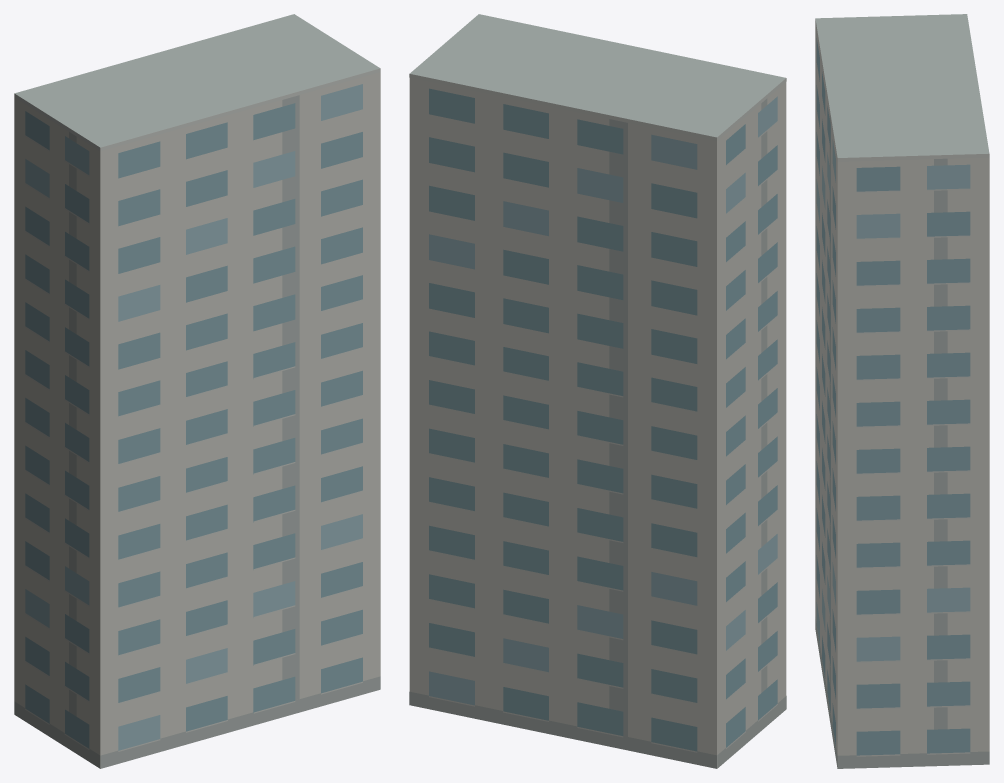
Rendered from residential-a8a6ac47-7f25-4c6a-9a80-2eb6d93ecd87.glb.
The picture shows the model from 3 angles, left to right: view 1: azimuth 30°, elevation 25°; view 2: azimuth 150°, elevation 25°; view 3: azimuth 270°, elevation 25°; orthographic projection. The views are drawn at different scales.
Parts seen in each view (by area): view 1: residential-a8a6ac47-7f25-4c6a-9a80-2eb6d93ecd87.tmp; view 2: residential-a8a6ac47-7f25-4c6a-9a80-2eb6d93ecd87.tmp; view 3: residential-a8a6ac47-7f25-4c6a-9a80-2eb6d93ecd87.tmp.
Boxes of the visible parts, x1,y1,x2,y2 form: residential-a8a6ac47-7f25-4c6a-9a80-2eb6d93ecd87.tmp: [14, 14, 380, 768]; residential-a8a6ac47-7f25-4c6a-9a80-2eb6d93ecd87.tmp: [409, 14, 786, 768]; residential-a8a6ac47-7f25-4c6a-9a80-2eb6d93ecd87.tmp: [815, 14, 989, 768].
Bounding box in the file's own units: 20.25 × 40 × 10.34.
